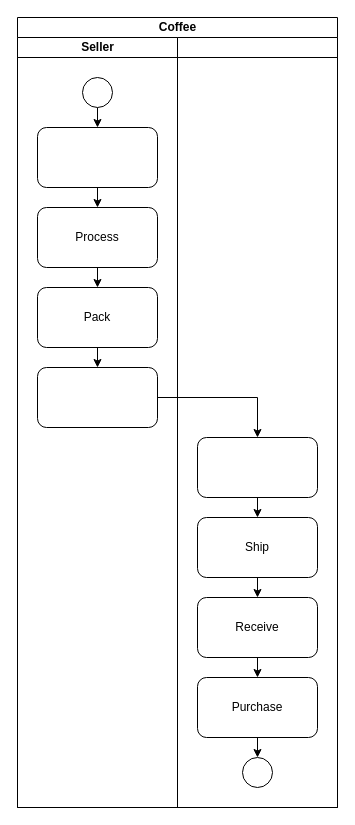
Some shapes in this 355 by 825 pixel diagram are drawn without their labels. The shapes that lost their labels are listed below. From the top down, each one's box as (x1, y1, x2, y2) in pixels, then its label:
(36, 126, 158, 188): Harvest
(36, 366, 158, 428): ForSale
(176, 36, 338, 808): Buyer
(196, 436, 318, 498): Buy
